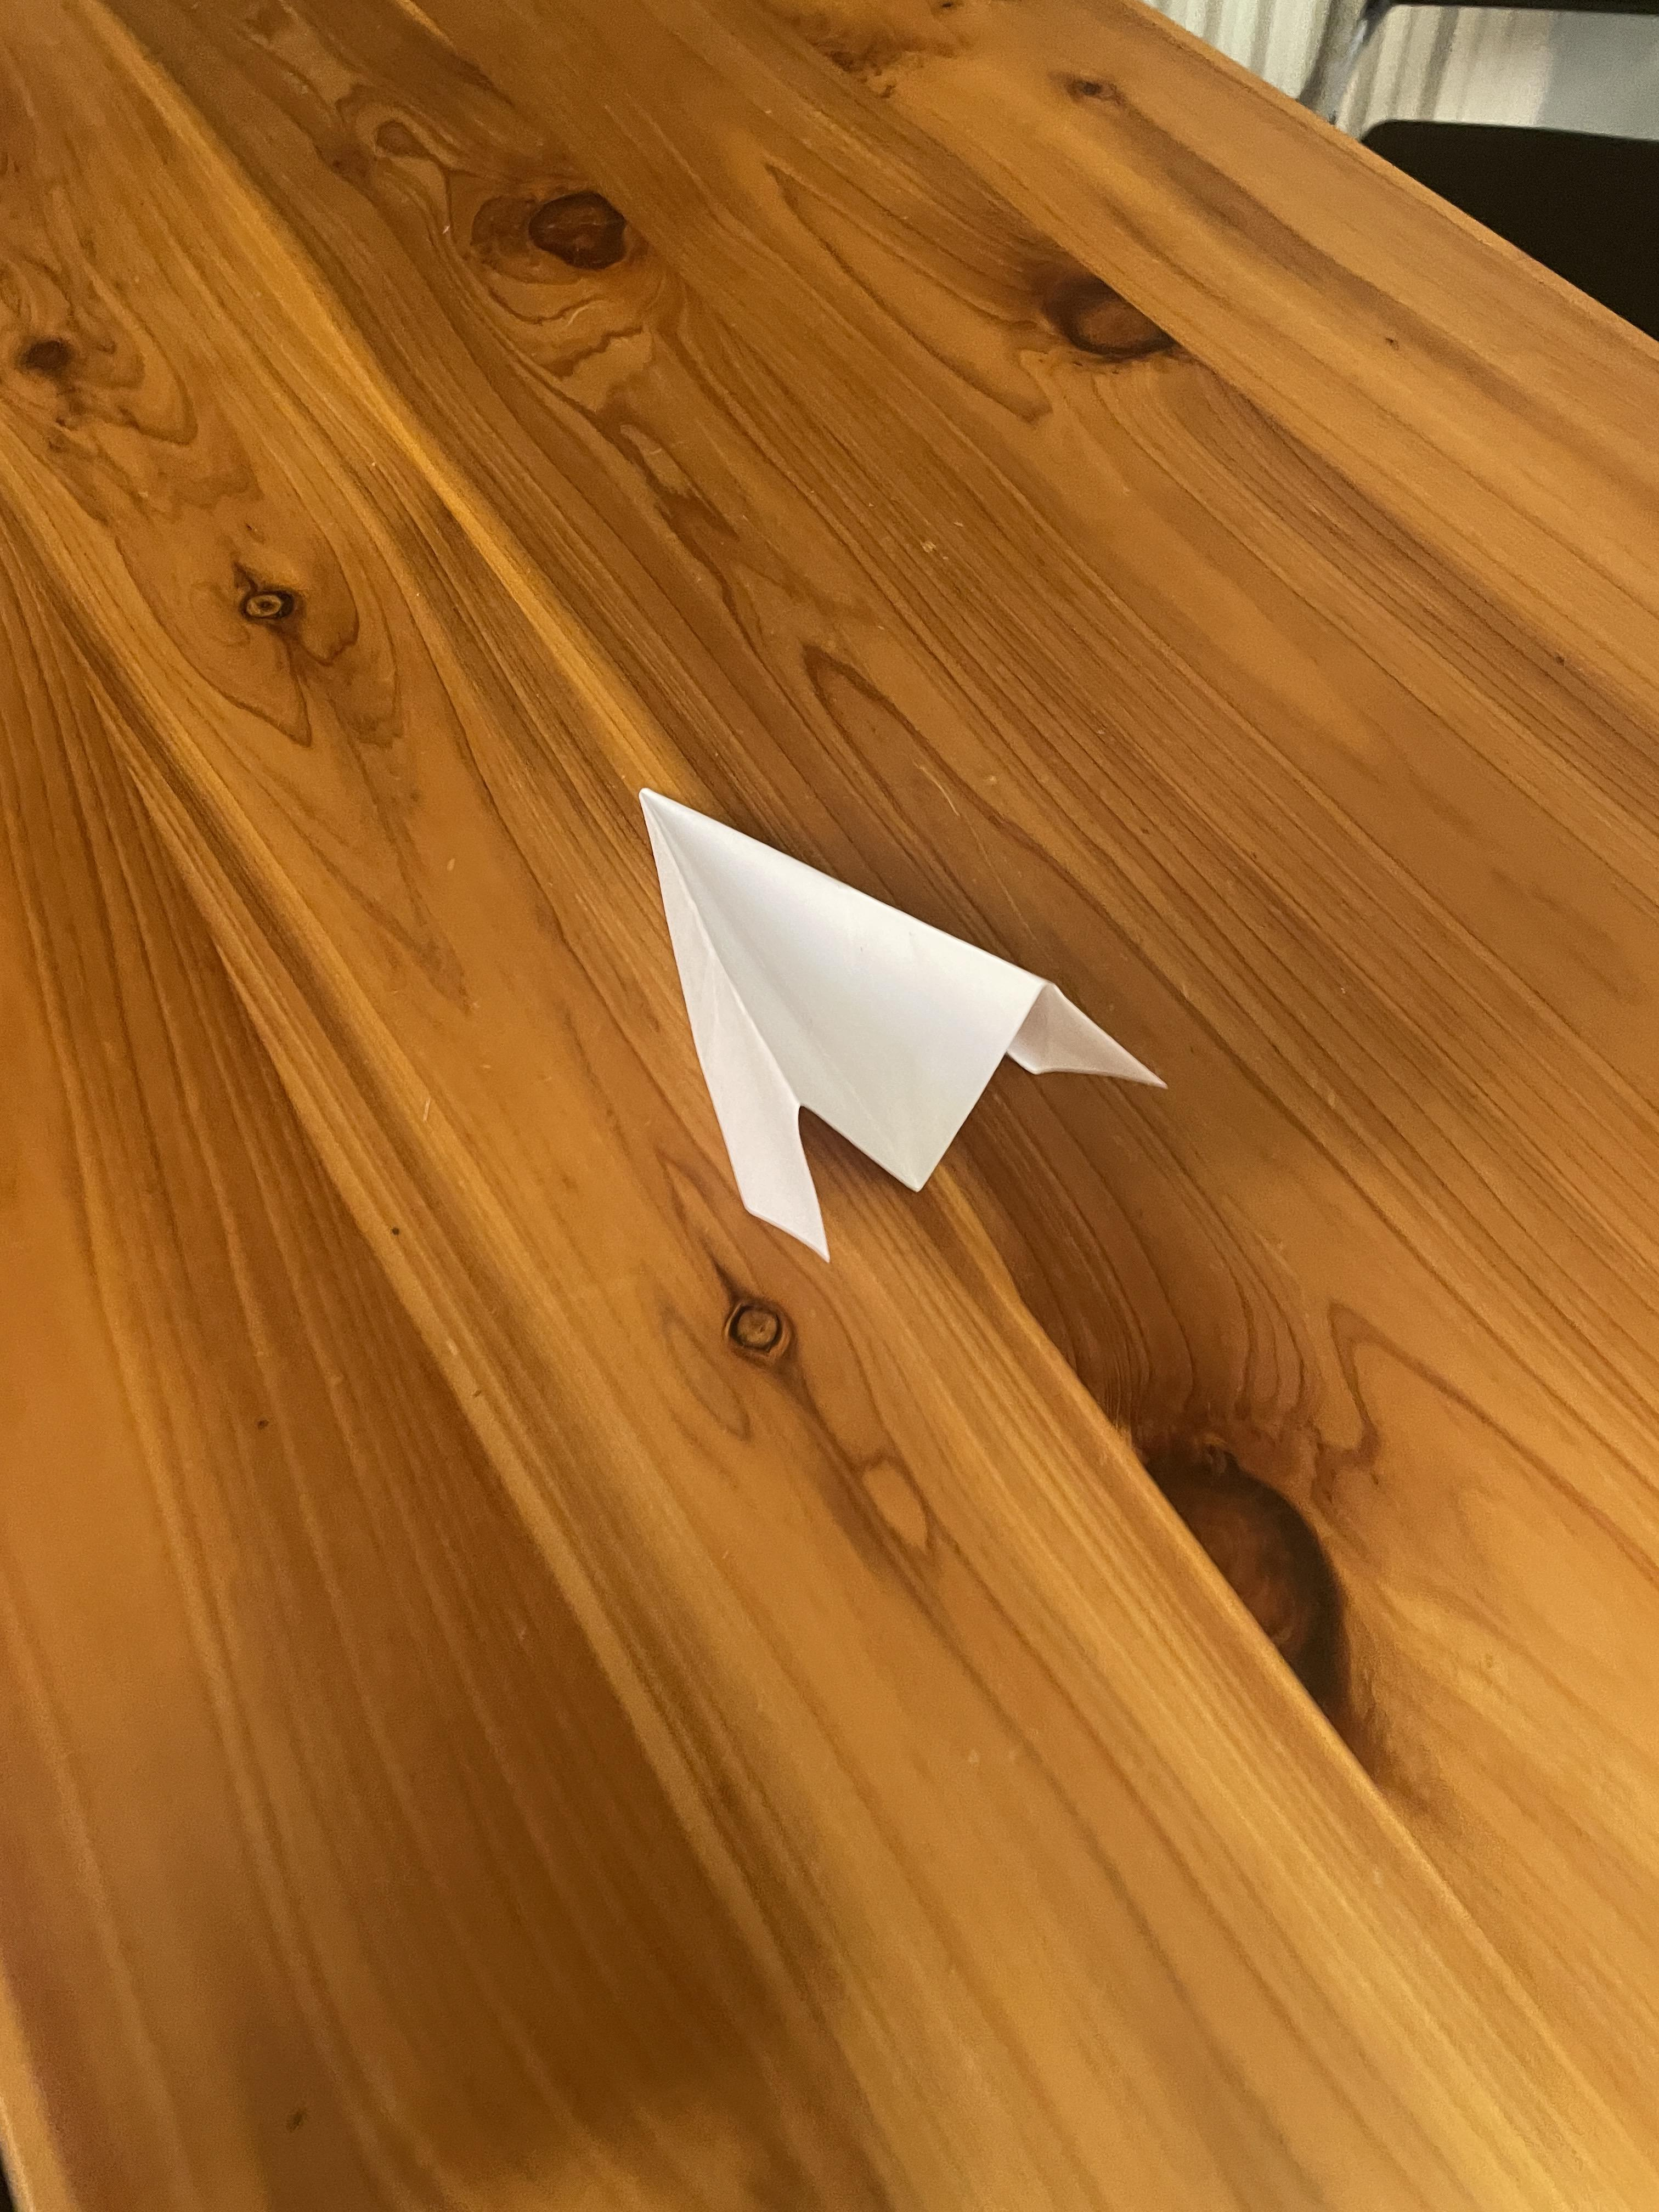shape_3: (544, 671, 1255, 1287)
